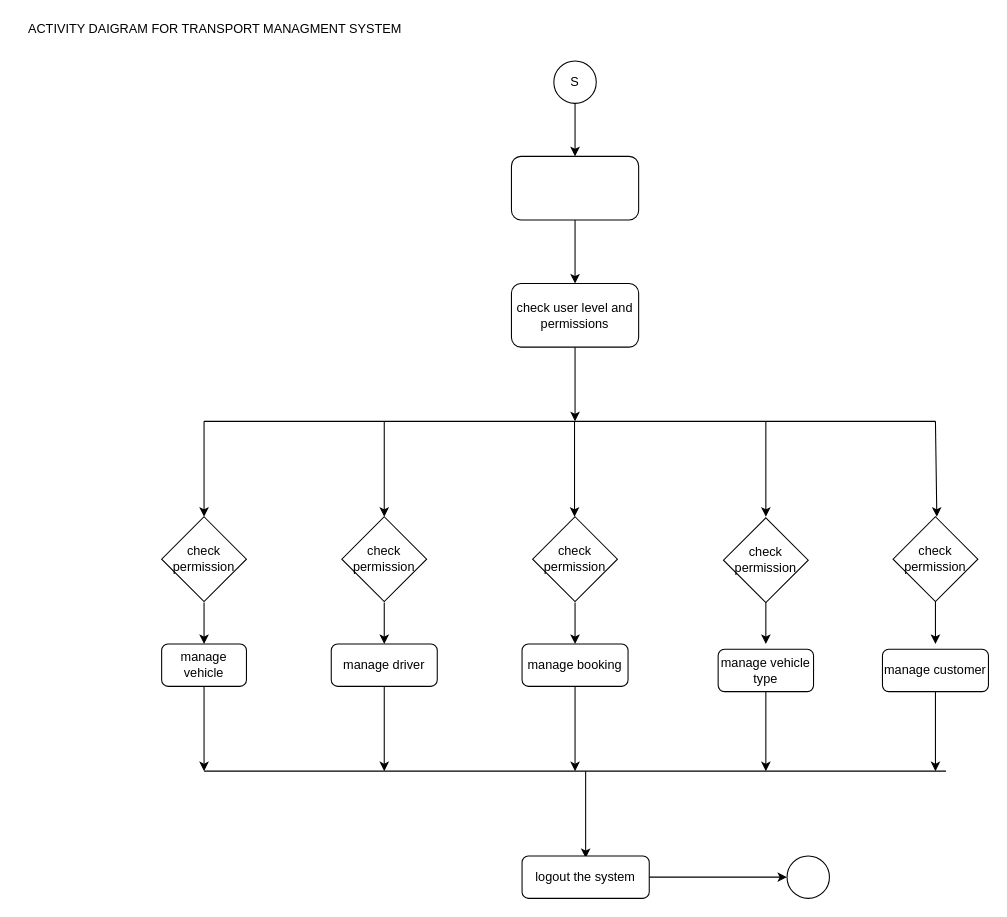
Some shapes in this 1007 by 917 pixel diagram are drawn without their labels. The shapes that lost their labels are listed below. From the top down, each one's box as (x1, y1, x2, y2) in pixels, then its label:
(510, 155, 639, 220): login to the transport management system
(786, 855, 829, 898): end
